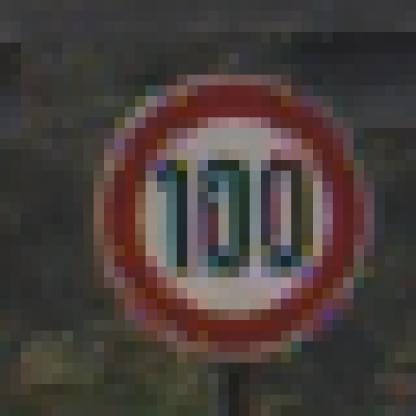Speed Limit 100: (103, 79, 361, 355)
